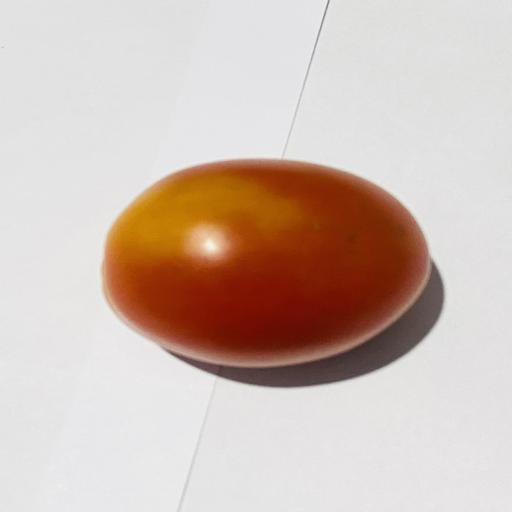ripe: (104, 160, 430, 366)
